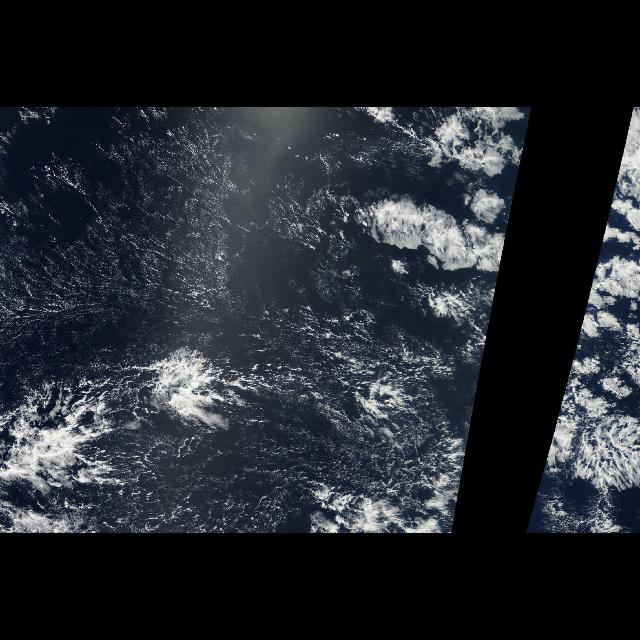Sugar: (7, 113, 371, 354), (109, 376, 459, 532)
